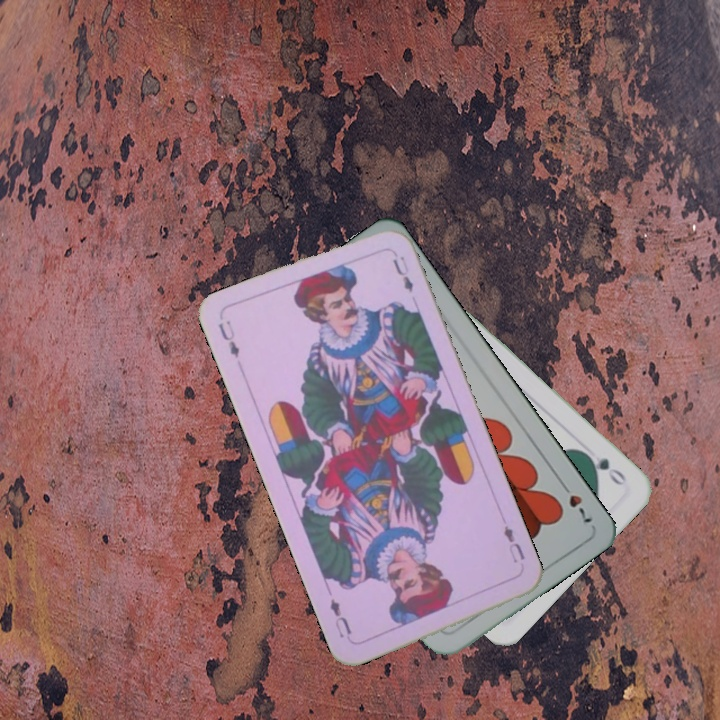EU: (499, 521, 528, 566), (214, 316, 242, 361)
GO: (580, 448, 629, 489)
H7: (555, 476, 596, 526)
